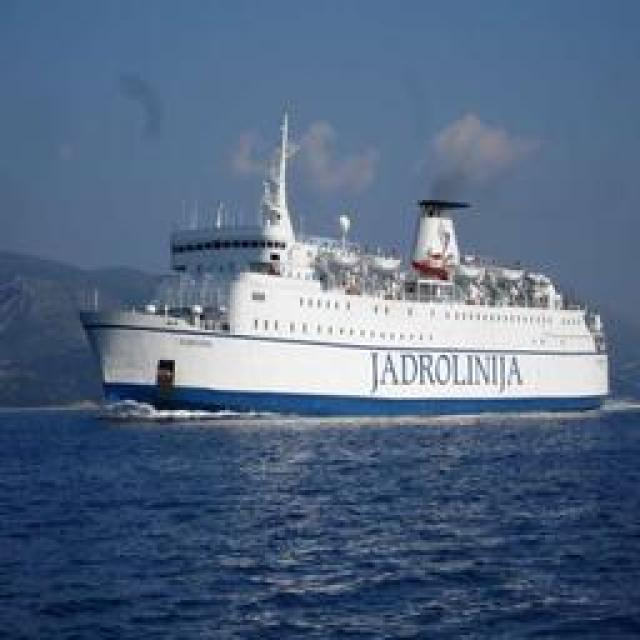CIV_Ship: (82, 167, 606, 415)
